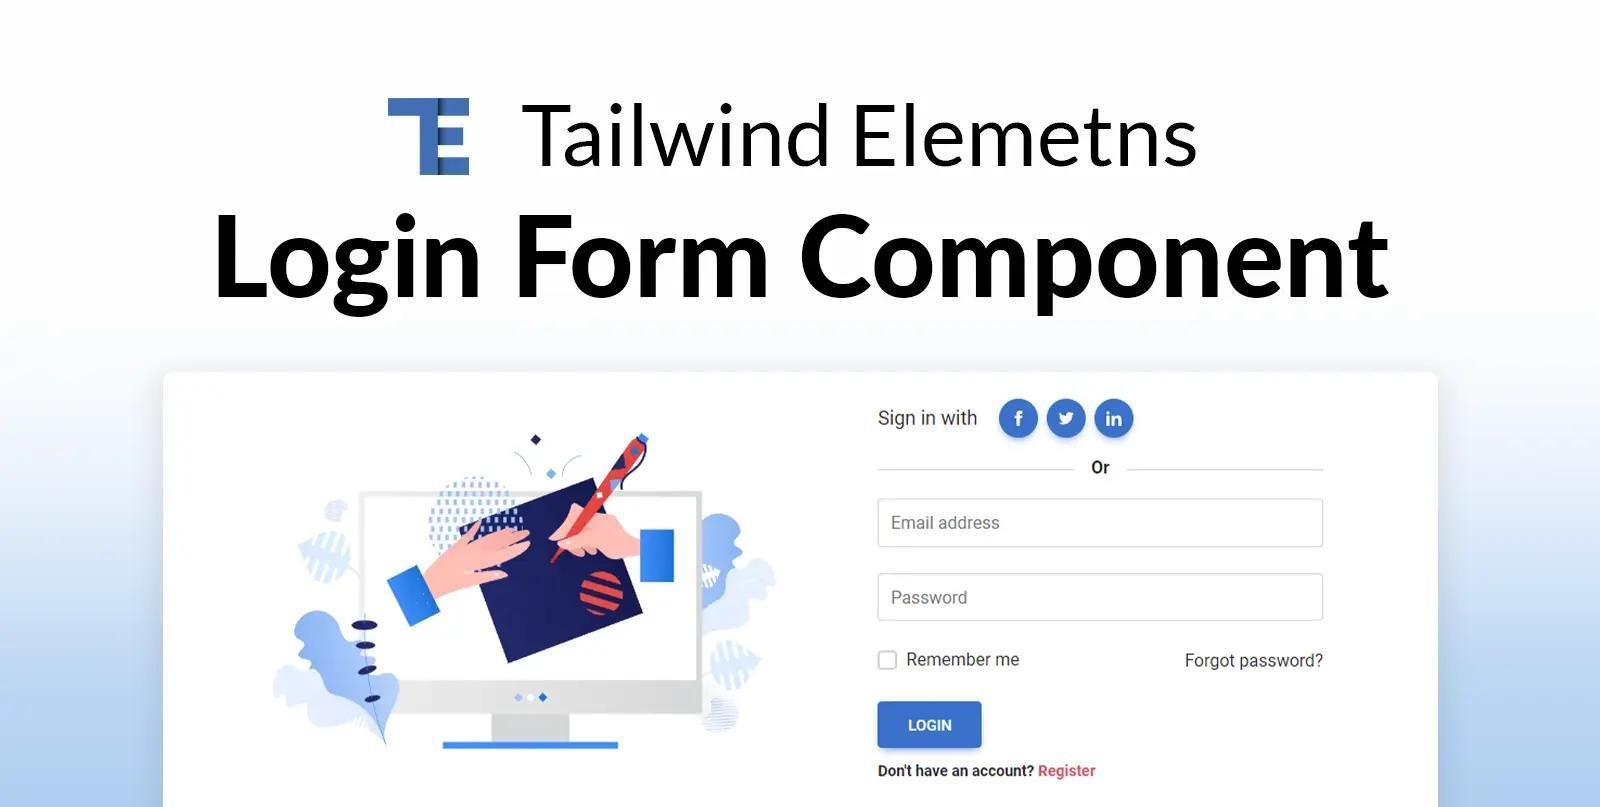button: (877, 699, 985, 753)
checkbox: (881, 650, 899, 670)
icon: (1045, 399, 1088, 438), (996, 400, 1038, 438), (1097, 399, 1135, 440)
input: (879, 572, 1322, 624), (877, 499, 1323, 549)
label: (904, 646, 1021, 671)
